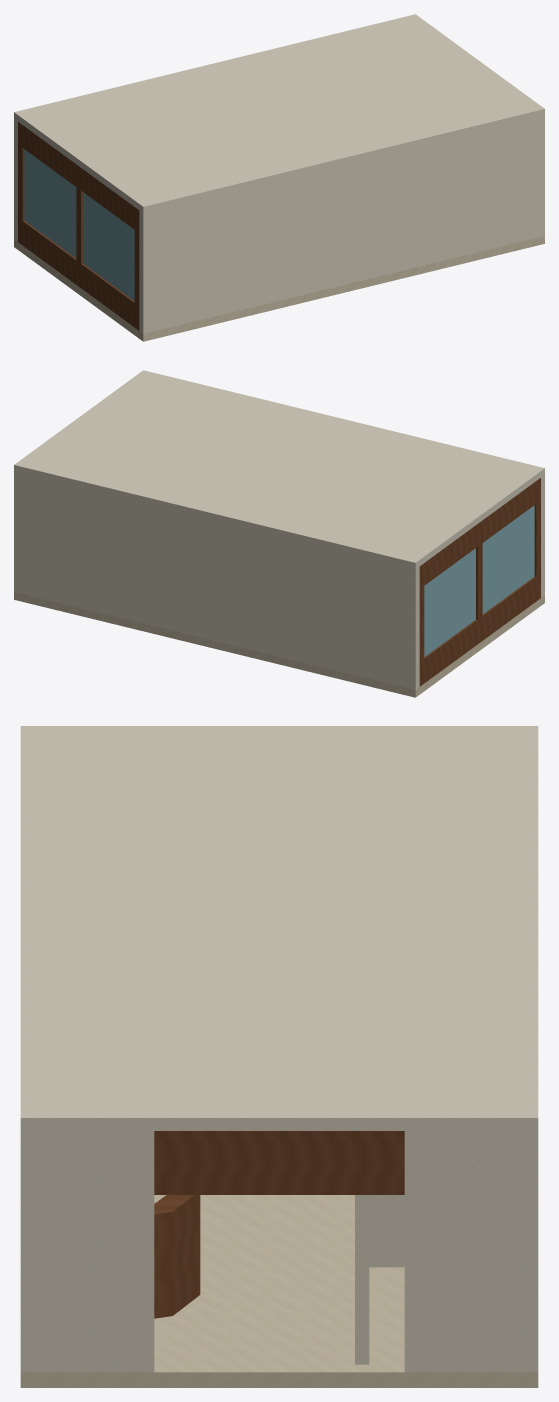
Rendered from TidalSpecialty.glb.
3 views of the same model, one above another, from view 1: azimuth 30°, elevation 25°; view 2: azimuth 150°, elevation 25°; view 3: azimuth 270°, elevation 25° (orthographic). The views are drawn at different scales.
Parts seen in each view (by area): view 1: TQD568_Ceiling, TQD568_SouthWall, TQD568_Floor, TQD568_CourtGlass_0, TQD568_CourtGlass_1, TQD568_WestSill, TQD568_WestHeader, TQD568_WestPier_1, TQD568_WestPier_0, TQD568_NorthWall, TQD568_WestPier_2; view 2: TQD568_Ceiling, TQD568_NorthWall, TQD568_Floor, TQD568_CourtGlass_1, TQD568_CourtGlass_0, TQD568_WestSill, TQD568_WestHeader, TQD568_WestPier_1, TQD568_WestPier_2, TQD568_SouthWall, TQD568_WestPier_0; view 3: TQD568_Ceiling, TQD568_Floor, TQD568_FrontWall_0, TQD568_FrontWall_1, TQD568_EntryLintel, TQD568_PrivacyScreen, TQD568_NorthWall, TQD568_SouthWall, TQD568_WashWest, TQD568_WashSouth_1.
Part boxes in pixels (left/top/right/bottom): TQD568_Ceiling: left=14, top=14, right=544, bottom=213; TQD568_SouthWall: left=139, top=115, right=544, bottom=333; TQD568_Floor: left=14, top=236, right=544, bottom=341; TQD568_CourtGlass_0: left=24, top=149, right=76, bottom=257; TQD568_CourtGlass_1: left=83, top=192, right=134, bottom=300; TQD568_WestSill: left=18, top=218, right=139, bottom=330; TQD568_WestHeader: left=18, top=122, right=139, bottom=232; TQD568_WestPier_1: left=76, top=187, right=82, bottom=263; TQD568_WestPier_0: left=18, top=144, right=24, bottom=220; TQD568_NorthWall: left=14, top=119, right=17, bottom=241; TQD568_WestPier_2: left=134, top=230, right=139, bottom=305; TQD568_Ceiling: left=14, top=370, right=544, bottom=569; TQD568_NorthWall: left=14, top=471, right=419, bottom=689; TQD568_Floor: left=14, top=592, right=544, bottom=697; TQD568_CourtGlass_1: left=482, top=505, right=534, bottom=613; TQD568_CourtGlass_0: left=424, top=548, right=475, bottom=656; TQD568_WestSill: left=419, top=574, right=540, bottom=686; TQD568_WestHeader: left=419, top=478, right=540, bottom=588; TQD568_WestPier_1: left=476, top=543, right=482, bottom=619; TQD568_WestPier_2: left=534, top=500, right=540, bottom=576; TQD568_SouthWall: left=541, top=475, right=544, bottom=597; TQD568_WestPier_0: left=419, top=586, right=424, bottom=661; TQD568_Ceiling: left=20, top=726, right=538, bottom=1130; TQD568_Floor: left=20, top=1195, right=538, bottom=1387; TQD568_FrontWall_0: left=404, top=1131, right=522, bottom=1372; TQD568_FrontWall_1: left=36, top=1131, right=154, bottom=1372; TQD568_EntryLintel: left=154, top=1131, right=404, bottom=1194; TQD568_PrivacyScreen: left=154, top=1195, right=200, bottom=1318; TQD568_NorthWall: left=522, top=1131, right=538, bottom=1372; TQD568_SouthWall: left=20, top=1131, right=36, bottom=1372; TQD568_WashWest: left=369, top=1195, right=404, bottom=1267; TQD568_WashSouth_1: left=355, top=1195, right=369, bottom=1364.
Size of the model in its own units: 12.9 by 4.14 by 7.2.
7 materials, 5 textured.
